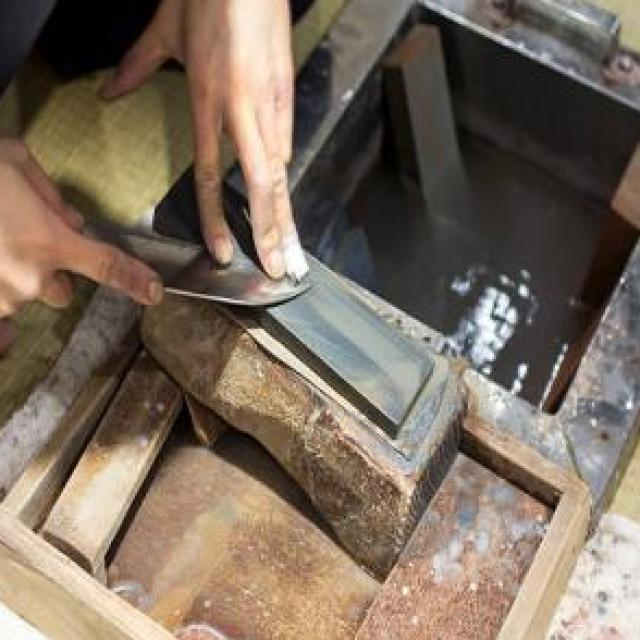knife: (41, 222, 312, 306)
